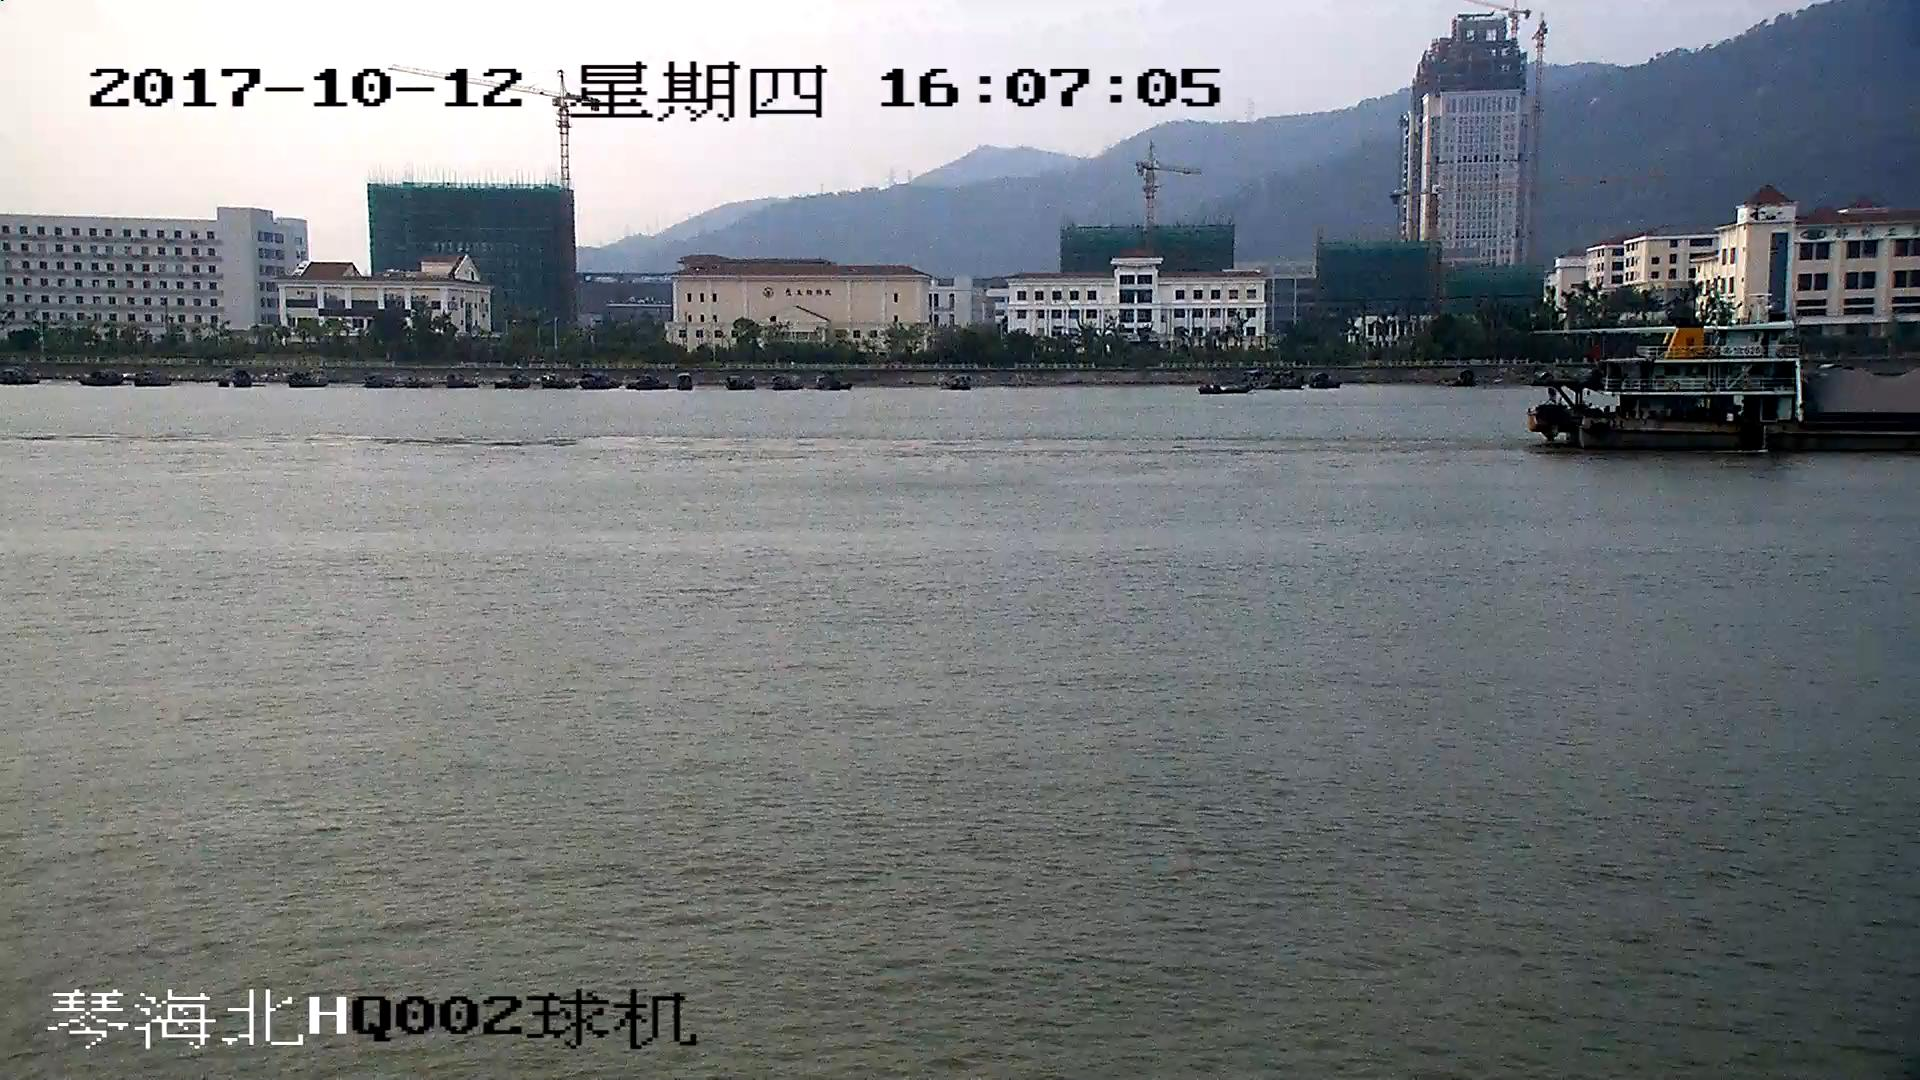ore carrier: (1531, 333, 1920, 453)
